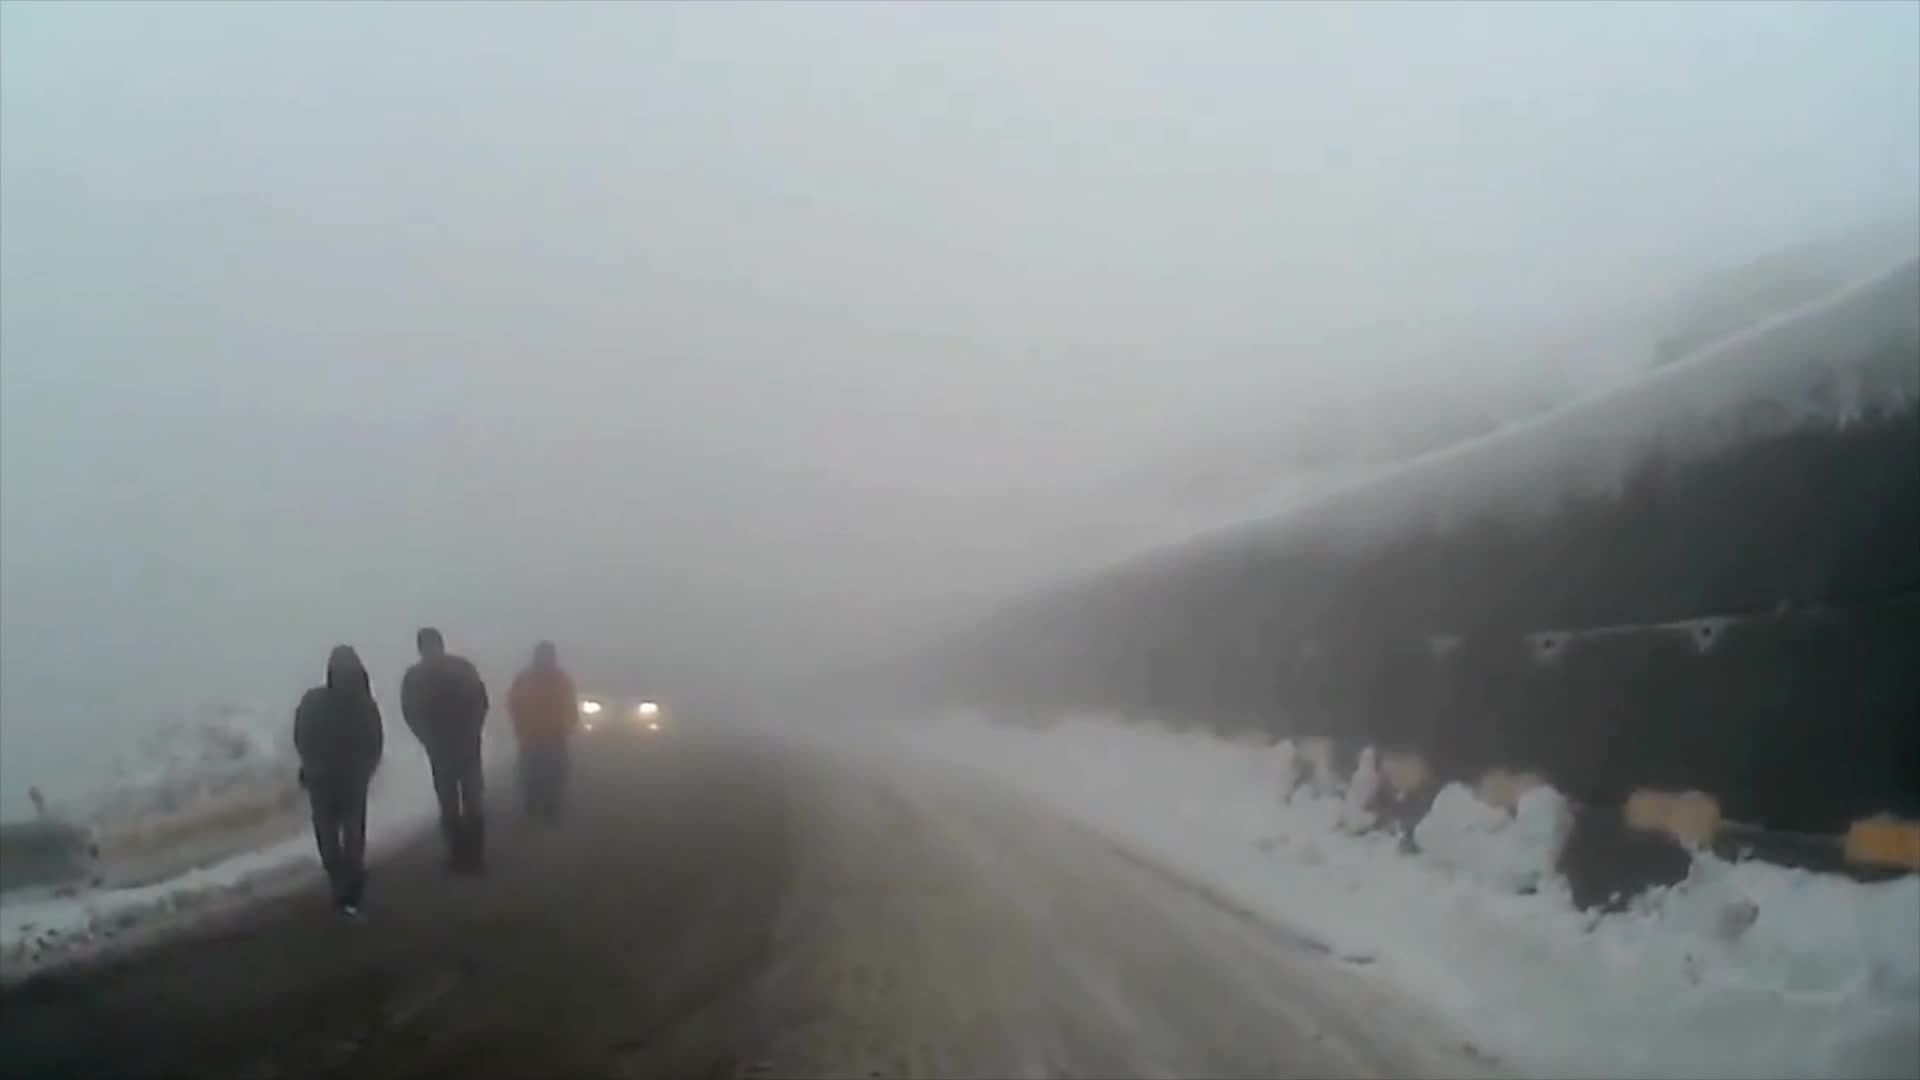pedestrian: (298, 641, 389, 913), (399, 633, 489, 874), (504, 640, 579, 836)
vehicle: (572, 676, 668, 758)
